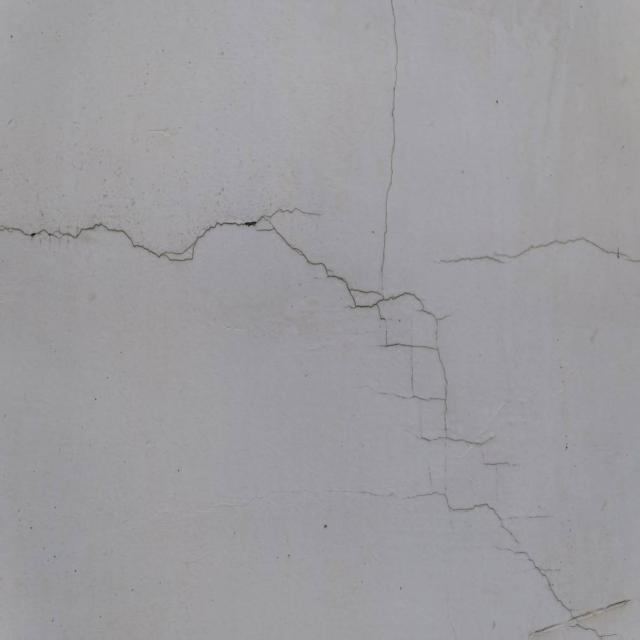crack: (5, 12, 630, 637), (436, 226, 637, 275)
